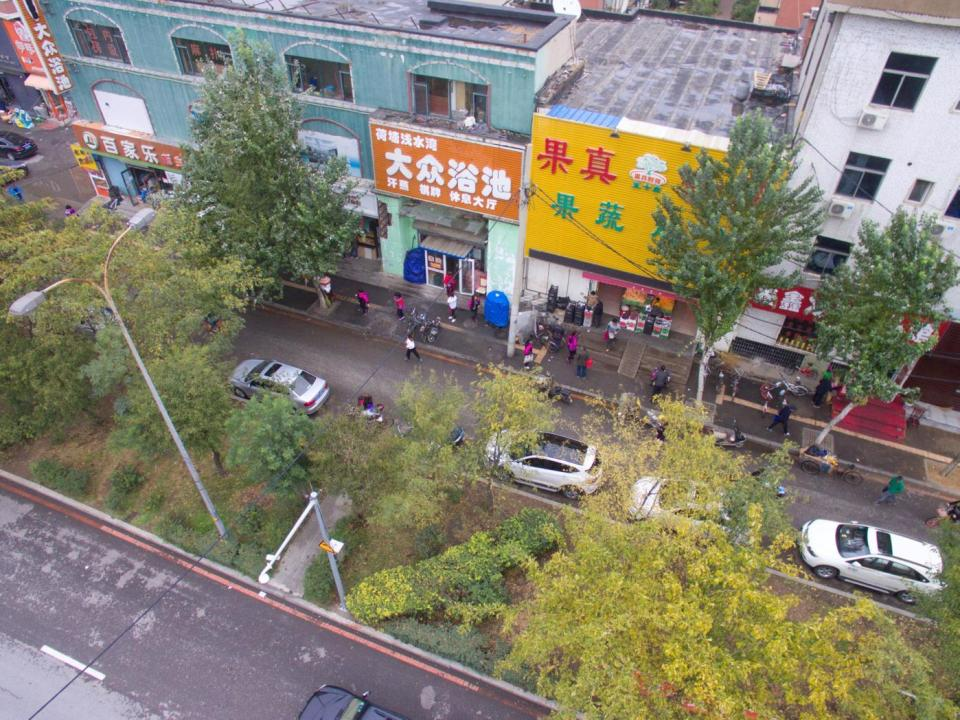car: (798, 518, 948, 607), (626, 474, 758, 549), (483, 426, 604, 501), (227, 359, 330, 410), (298, 684, 415, 719), (59, 300, 122, 338), (0, 132, 38, 160)
